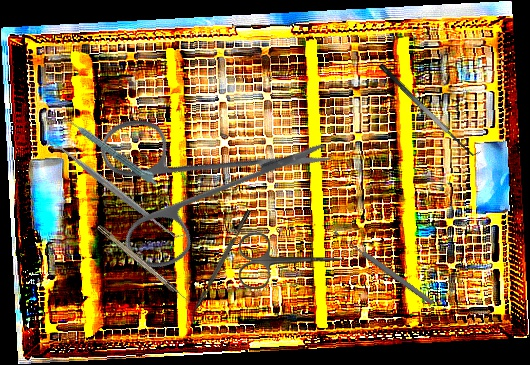Chopper: (186, 209, 257, 325)
Handpiece: (66, 114, 162, 188)
Hook Surgical: (96, 223, 192, 306)
Iris Scissors: (59, 44, 336, 318), (239, 232, 344, 289)
Spatula Surgical: (44, 132, 187, 248), (377, 55, 483, 163)
Surgical Spoon: (332, 229, 435, 306)
